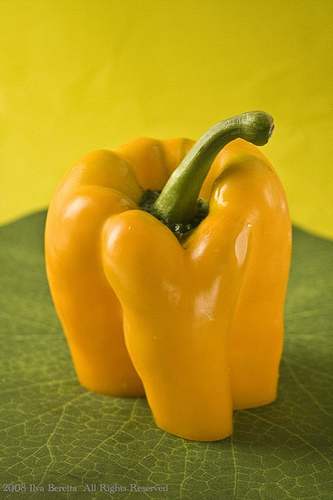capsicum: (42, 110, 292, 443)
